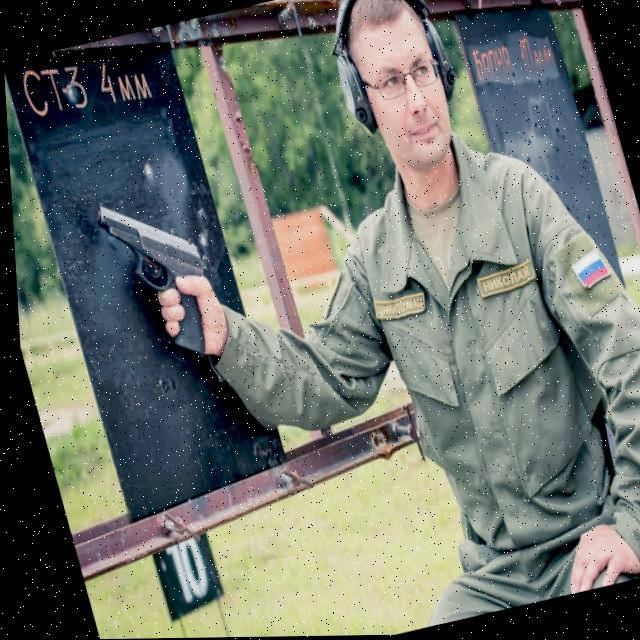pistol: (89, 181, 211, 300)
